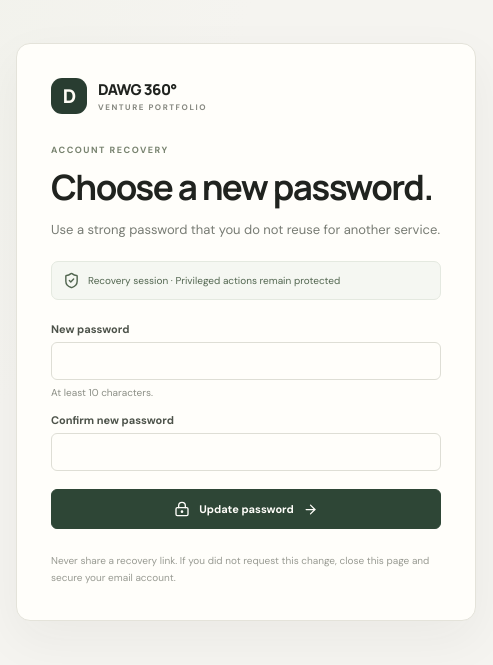
Test: PasswordRecoveryPanel › rejects mismatched passwords without sending an update
Type "new-strong-password-123" into the password field labelled "New password At least 10 characters." at (246, 361), box [51,342,441,380]
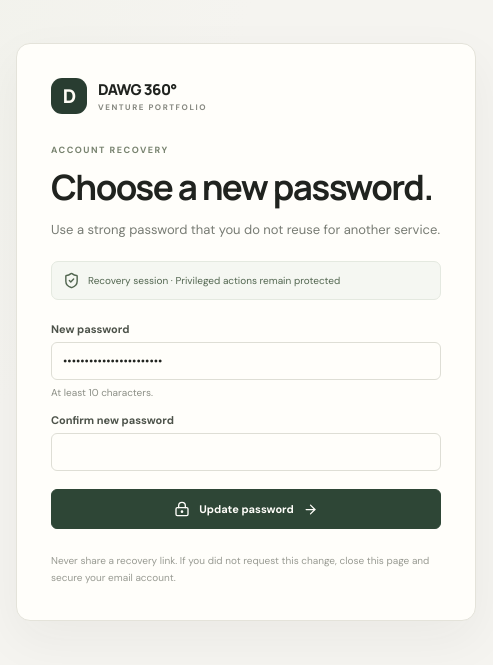
Type "different-password-123" into the password field labelled "Confirm new password" at (246, 452), box [51,433,441,471]
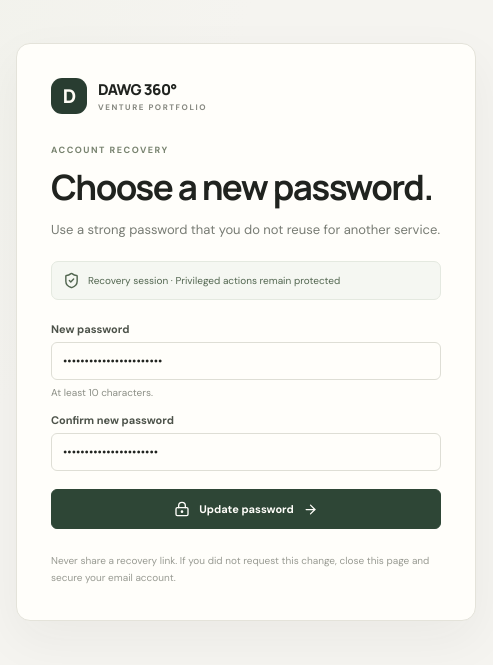
Click the button "Update password" at (246, 509), box [51,489,441,529]
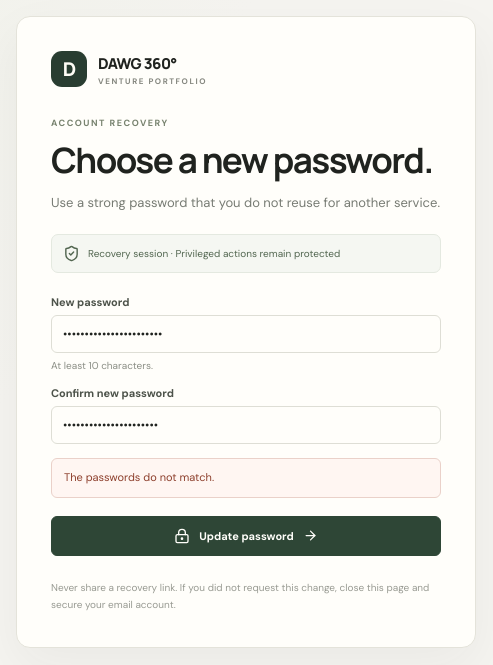
Check: the message shows "passwords do not match", box [64,470,214,484]
